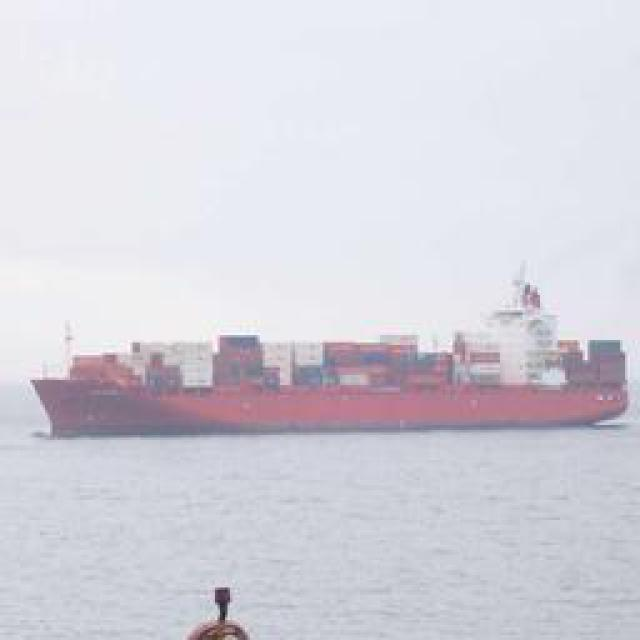Ship: (21, 272, 631, 440)
